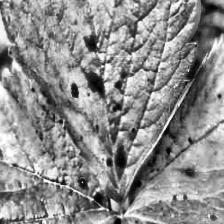Leaf Spot: (0, 0, 202, 205), (120, 32, 224, 224), (0, 58, 121, 223)
